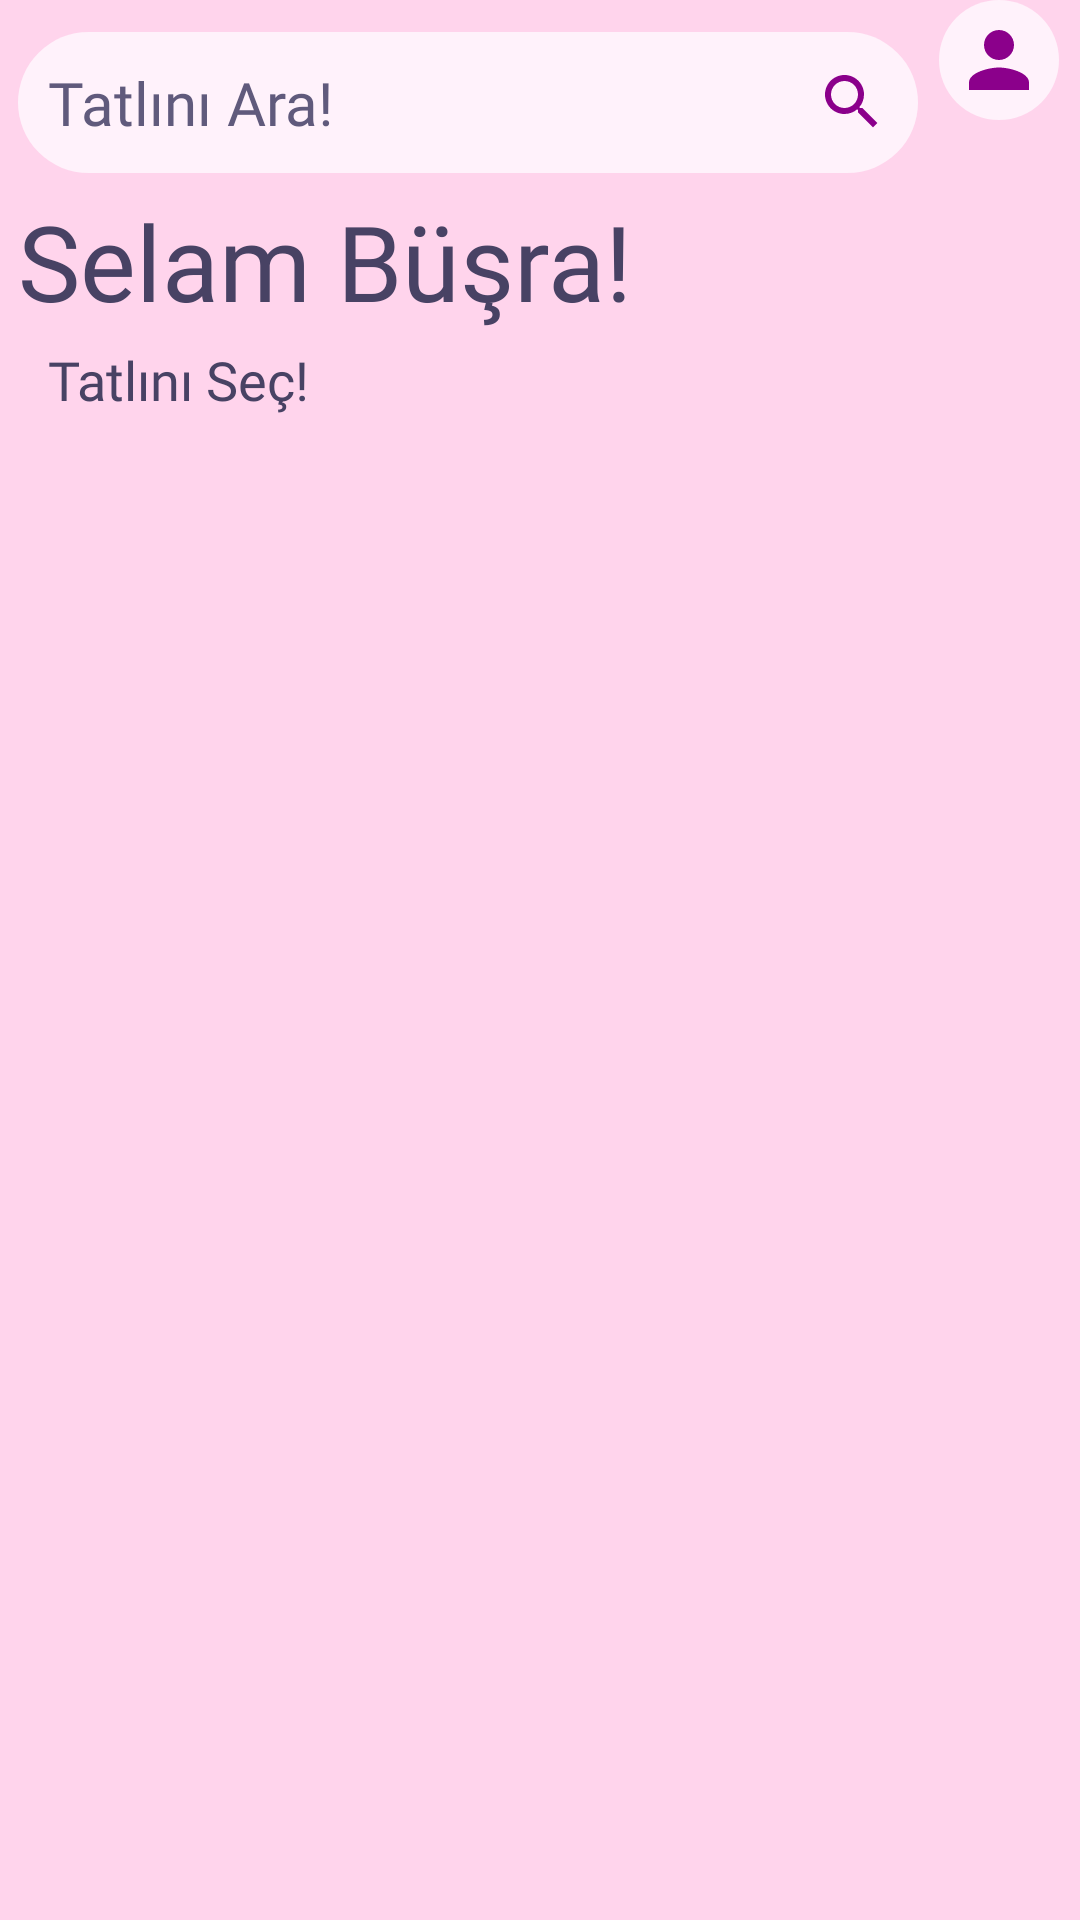

Icon click points for this 1080 x 1920 phone screenshot, format [x,y]:
person: [999,60]
